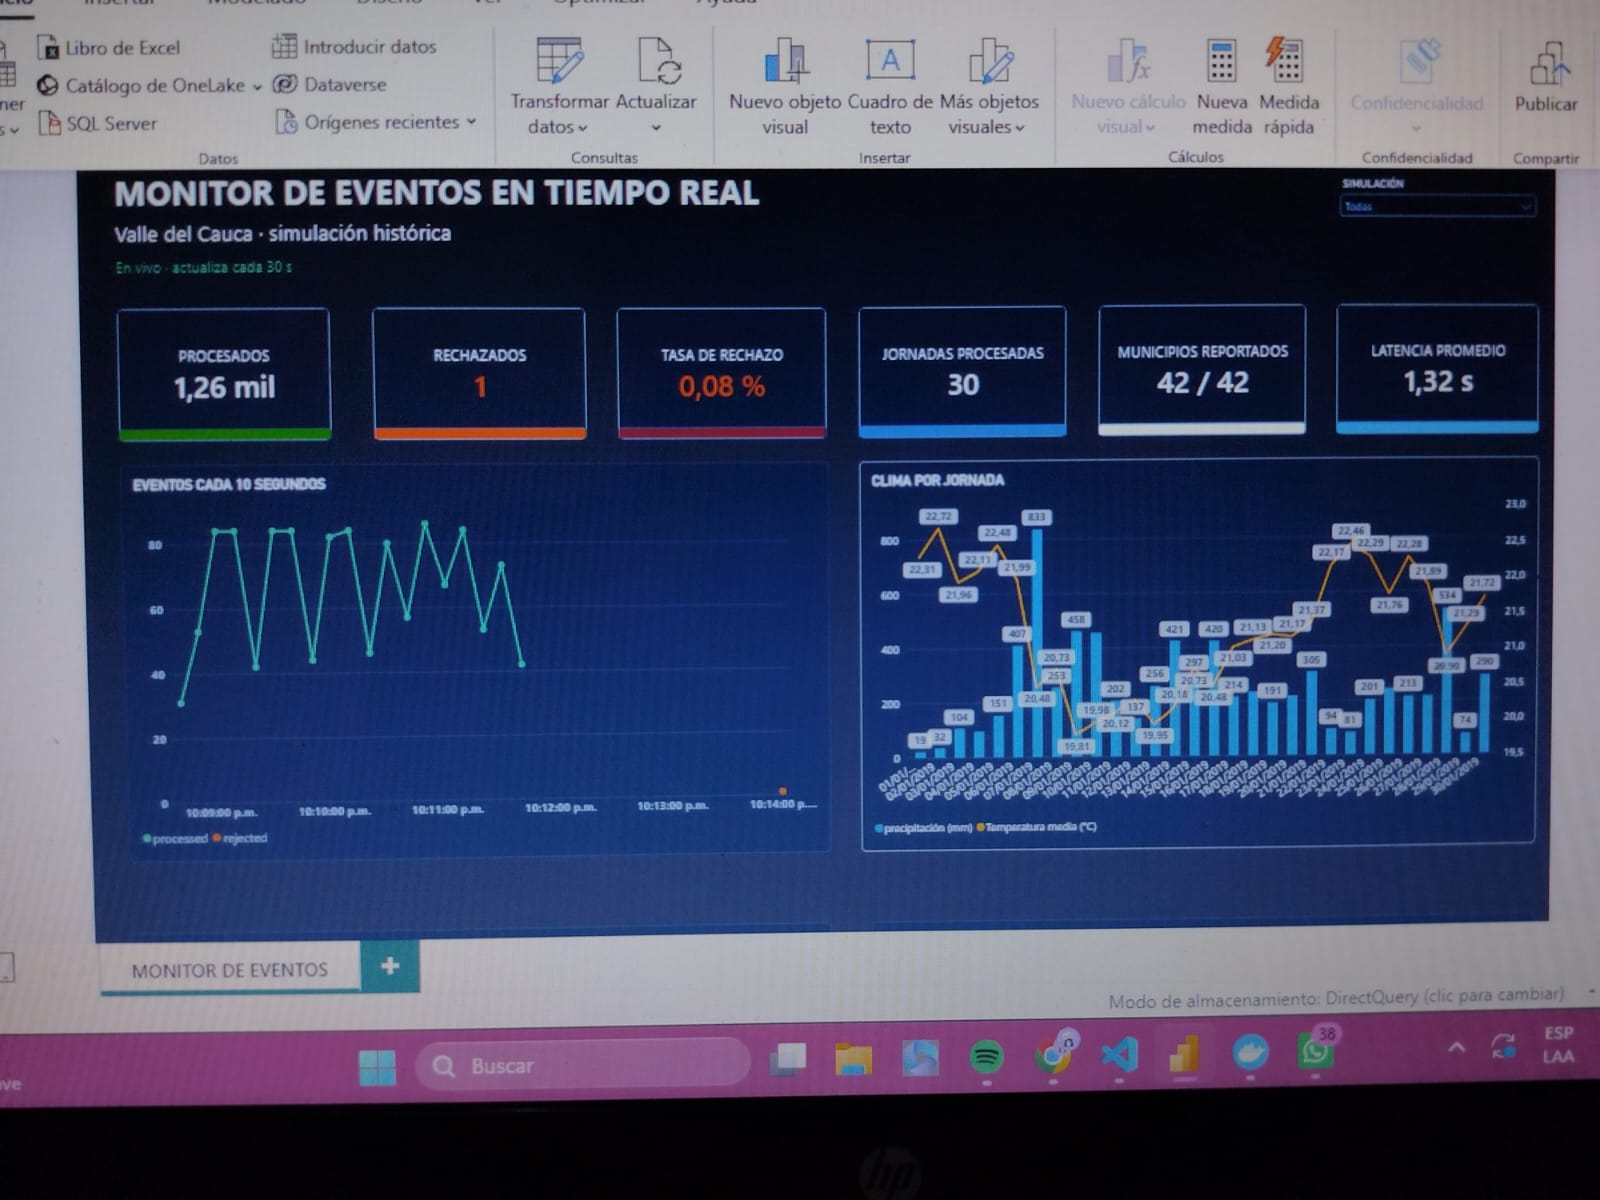

The dashboard page shown, as its layout file describes it:
{"tool":"powerbi","page":{"name":"MONITOR DE EVENTOS","canvas":[1920,2000],"ordinal":0},"visuals":[{"type":"cardVisual","fields":{"Data":["Sum(streaming v_metricas_pipeline.eventos_procesados)"]},"box":[47.5,177.1,272.2,170.6],"z":0},{"type":"cardVisual","fields":{"Data":["Sum(streaming v_metricas_pipeline.eventos_rechazados)"]},"box":[373.7,177.1,272.2,170.6],"z":1000},{"type":"cardVisual","fields":{"Data":["streaming v_metricas_pipeline.Tasa de rechazo"]},"box":[686.9,177.1,272.2,170.6],"z":2000},{"type":"cardVisual","fields":{"Data":["Sum(streaming v_avance_simulacion.jornadas_procesadas)"]},"box":[1000.1,177.1,272.2,170.6],"z":3000},{"type":"cardVisual","fields":{"Data":["streaming v_avance_simulacion.Municipios reportados"]},"box":[1313.3,177.1,272.2,170.6],"z":4000},{"type":"cardVisual","fields":{"Data":["streaming v_avance_simulacion.Latencia promedio"]},"box":[1626.5,177.1,272.2,170.6],"z":5000},{"type":"shape","box":[47.5,332.6,272.2,15.1],"z":6000},{"type":"shape","box":[373.7,332.6,272.2,15.1],"z":7000},{"type":"shape","box":[686.9,332.6,272.2,15.1],"z":8000},{"type":"shape","box":[1000.1,332.6,272.2,15.1],"z":9000},{"type":"shape","box":[1313.3,332.6,272.2,15.1],"z":10000},{"type":"shape","box":[1626.5,332.6,272.2,15.1],"z":11000},{"type":"lineChart","title":"EVENTOS CADA 10 SEGUNDOS","fields":{"Category":["streaming v_eventos_por_minuto.minuto"],"Series":["streaming v_eventos_por_minuto.processing_status"],"Y":["Sum(streaming v_eventos_por_minuto.total_eventos)"]},"box":[47.5,378,911.5,516.2],"z":12000},{"type":"lineClusteredColumnComboChart","title":"CLIMA POR JORNADA","fields":{"Category":["streaming v_clima_por_jornada.fecha"],"Y":["Sum(streaming v_clima_por_jornada.precipitacion_total_mm)"],"Y2":["Sum(streaming v_clima_por_jornada.temperatura_media)"]},"box":[1000.1,378,898.6,516.2],"z":13000},{"type":"clusteredBarChart","title":"MUNICIPIOS MÁS LLUVIOSOS","fields":{"Category":["streaming v_clima_por_municipio.municipio"],"Y":["Sum(streaming v_clima_por_municipio.precipitacion_total_mm)"]},"box":[48.3,985,911.7,543.3],"z":14000},{"type":"tableEx","title":"ÚLTIMOS EVENTOS RECHAZADOS","fields":{"Values":["streaming v_eventos_rechazados.procesado_hora_colombia","streaming v_eventos_rechazados.codigo_municipio","streaming v_eventos_rechazados.humedad_recibida","streaming v_eventos_rechazados.error_message"]},"box":[1011.7,985,886.7,543.3],"z":15000},{"type":"textbox","box":[48.3,0,1180,61.7],"z":16000},{"type":"textbox","box":[48.3,61.7,473.3,50],"z":17000},{"type":"textbox","box":[48.3,111.7,271.7,31.7],"z":18000},{"type":"slicer","fields":{"Values":["streaming v_simulaciones.simulation_id"]},"box":[1626.7,11.7,271.7,100],"z":19000}]}

Visuals, with their boxes in screenshot pixels (x1, y1, x2, y2):
cardVisual - Sum(streaming v_metricas_pipeline.eventos_procesados): 372/63/545/171
cardVisual - Sum(streaming v_metricas_pipeline.eventos_rechazados): 579/63/752/171
cardVisual - streaming v_metricas_pipeline.Tasa de rechazo: 779/63/952/171
cardVisual - Sum(streaming v_avance_simulacion.jornadas_procesadas): 978/63/1151/171
cardVisual - streaming v_avance_simulacion.Municipios reportados: 1177/63/1350/171
cardVisual - streaming v_avance_simulacion.Latencia promedio: 1376/63/1549/171
shape: 372/162/545/171
shape: 579/162/752/171
shape: 779/162/952/171
shape: 978/162/1151/171
shape: 1177/162/1350/171
shape: 1376/162/1549/171
"EVENTOS CADA 10 SEGUNDOS" lineChart: 372/190/952/519
"CLIMA POR JORNADA" lineClusteredColumnComboChart: 978/190/1549/519
"MUNICIPIOS MÁS LLUVIOSOS" clusteredBarChart: 372/576/952/922
"ÚLTIMOS EVENTOS RECHAZADOS" tableEx: 985/576/1549/922
textbox: 372/0/673/21
textbox: 372/21/545/41
slicer - streaming v_simulaciones.simulation_id: 1376/0/1549/21
